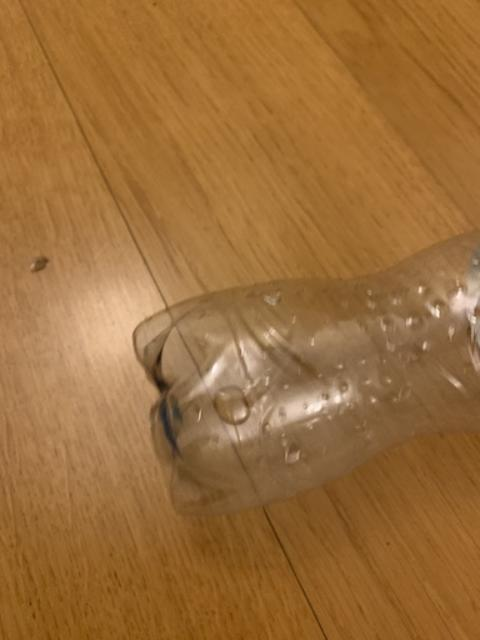plastic: (132, 230, 478, 510)
